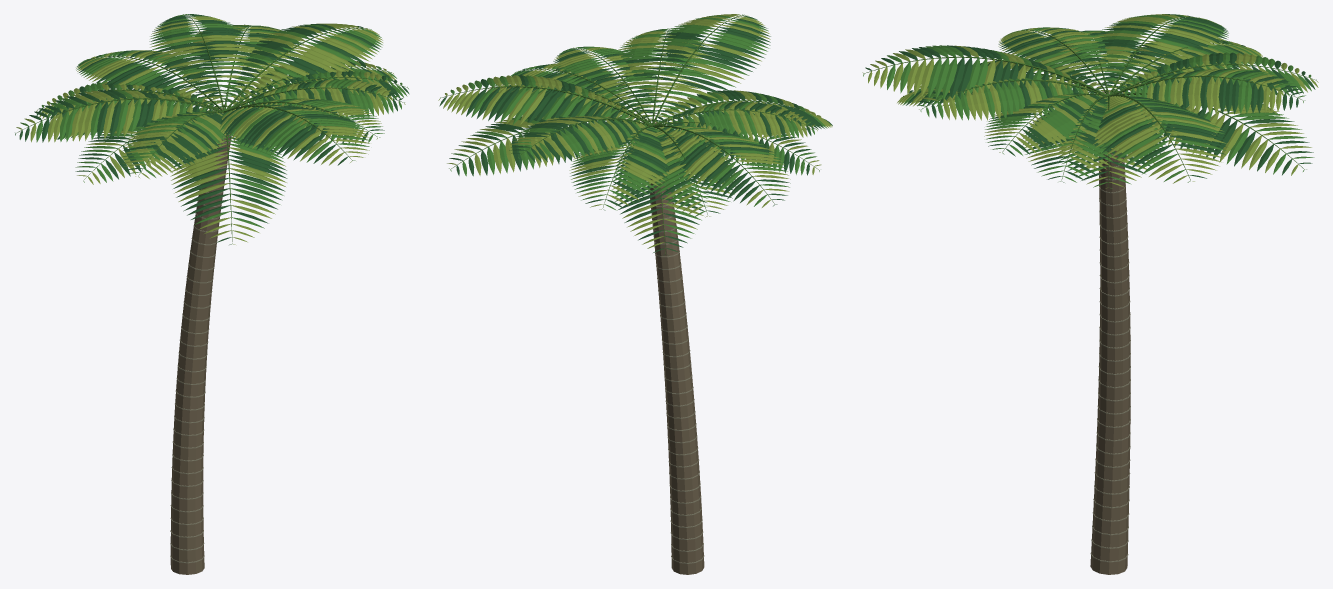
File: palm_tall.glb
The picture shows the model from 3 angles, left to right: view 1: azimuth 30°, elevation 25°; view 2: azimuth 150°, elevation 25°; view 3: azimuth 270°, elevation 25°; orthographic projection. The views are drawn at different scales.
Visible parts, largest first — view 1: palm_tall; view 2: palm_tall; view 3: palm_tall.
Boxes of the visible parts, bbox=[...] form: palm_tall: bbox=[15, 14, 409, 574]; palm_tall: bbox=[438, 14, 832, 574]; palm_tall: bbox=[862, 14, 1318, 574].
Size of the model in its own units: 5.84 by 7.66 by 5.91.
